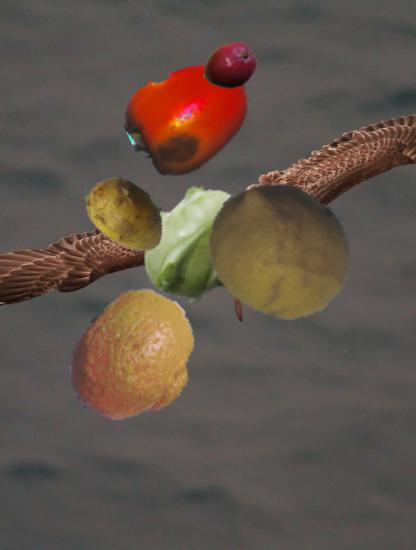Kaki: (126, 54, 254, 182)
Kohlrabi: (136, 181, 261, 306)
Lemon: (207, 178, 353, 324)
Mandarine: (65, 289, 204, 428)
Mango: (202, 38, 259, 95)
Potato: (81, 169, 172, 260)
